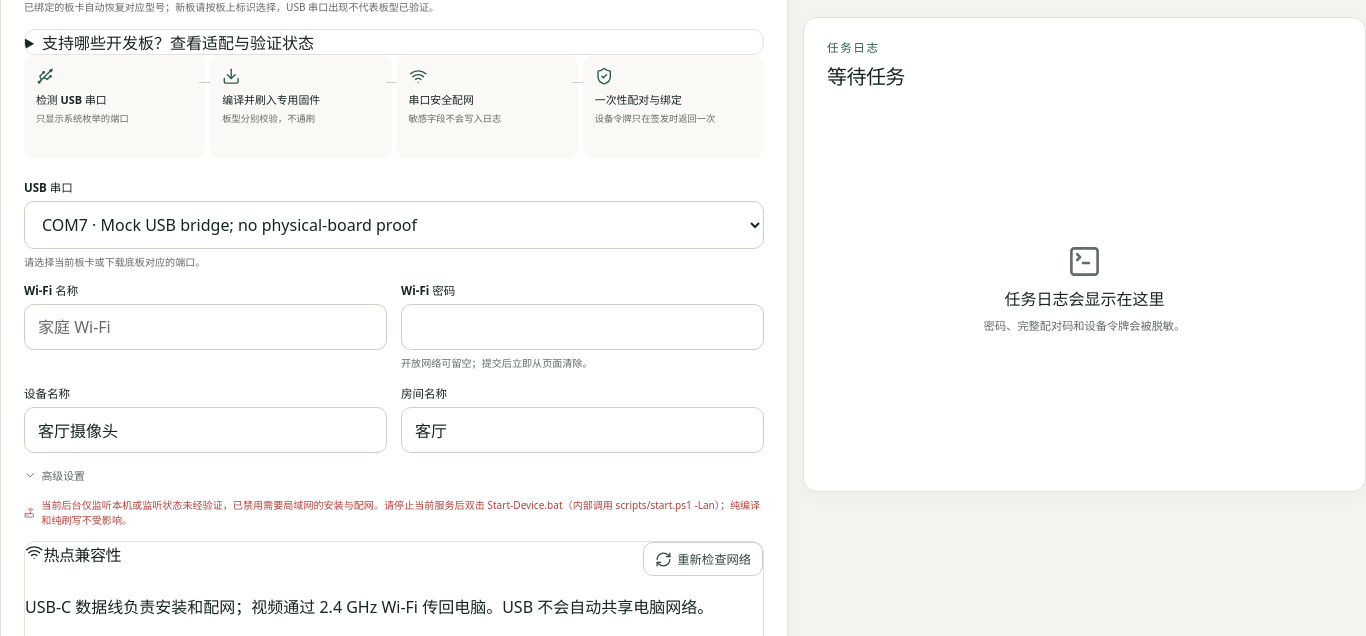
it: Mock component contracts: ESP32 LAN preflight, not hardware acceptance › keeps install and network enrollment disabled when listener is unverified: {"lan_enabled":false,"listener_verified":true,"lan_urls":["http://192.168.1.20:8018"]
(page scrolled)
Expected: the text "scripts/start.ps1 -Lan" is shown, x1=41 y1=498 x2=760 y2=527
In the field with placeholder "家庭 Wi-Fi": (206, 328) x1=24 y1=304 x2=387 y2=350, type "Home"
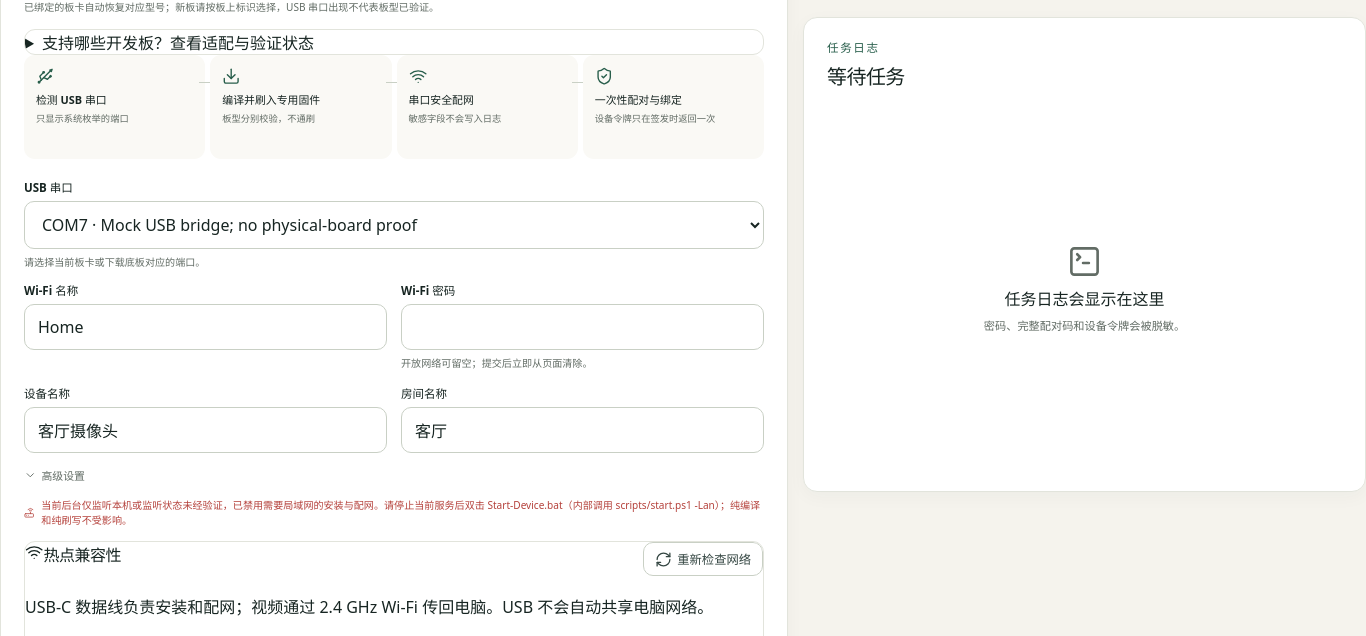
Click the button "高级设置": click(54, 475) x1=24 y1=461 x2=85 y2=489
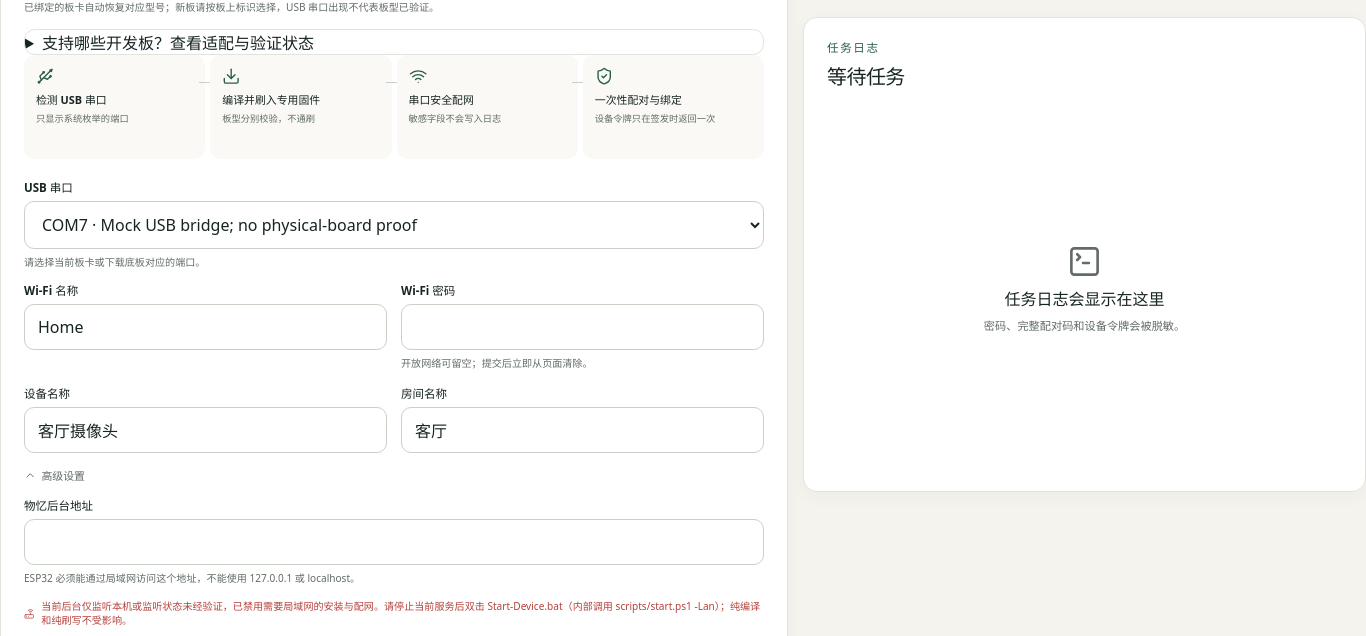
In the field labelled "物忆后台地址 ESP32 必须能通过局域网访问这个地址，不能使用 127.0.0.1 或 localhost。": (394, 542) x1=24 y1=519 x2=764 y2=565, type "http://192.168.1.20:8018"
(page scrolled)
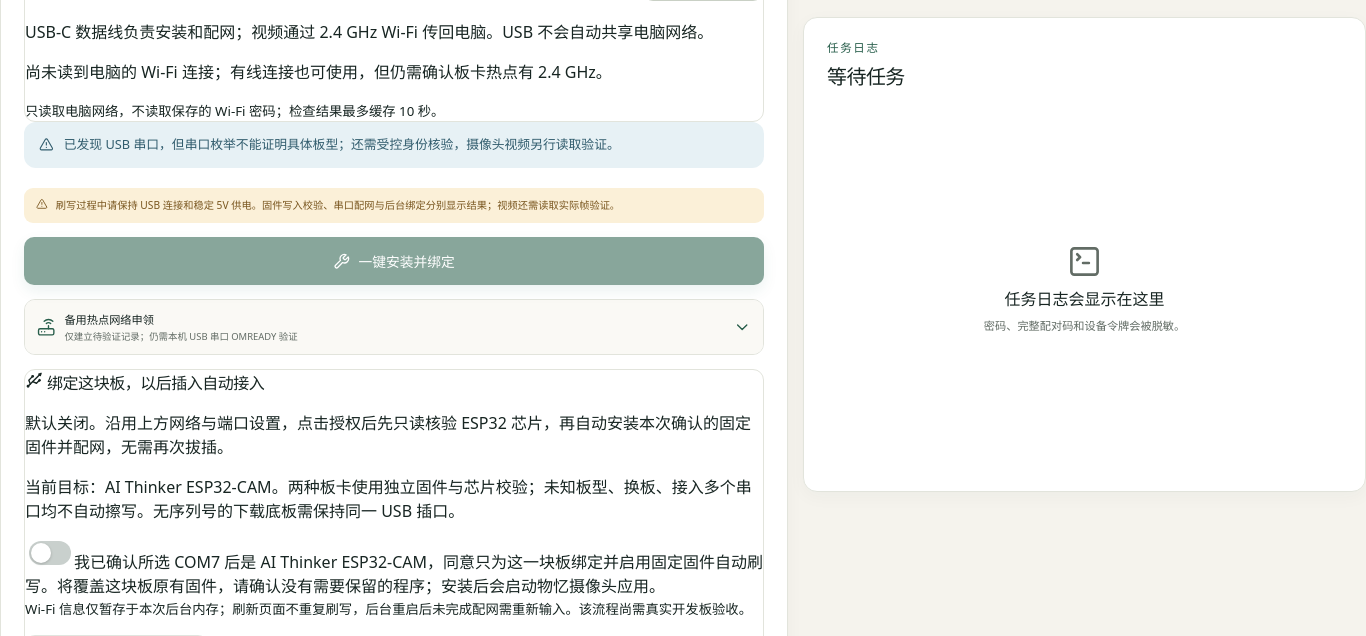
Expected: the button "一键安装并绑定" is disabled, x1=24 y1=237 x2=764 y2=285
Click the button "备用热点网络申领 仅建立待验证记录；仍需本机 USB 串口 OMREADY 验证": click(109, 320) x1=25 y1=300 x2=763 y2=354
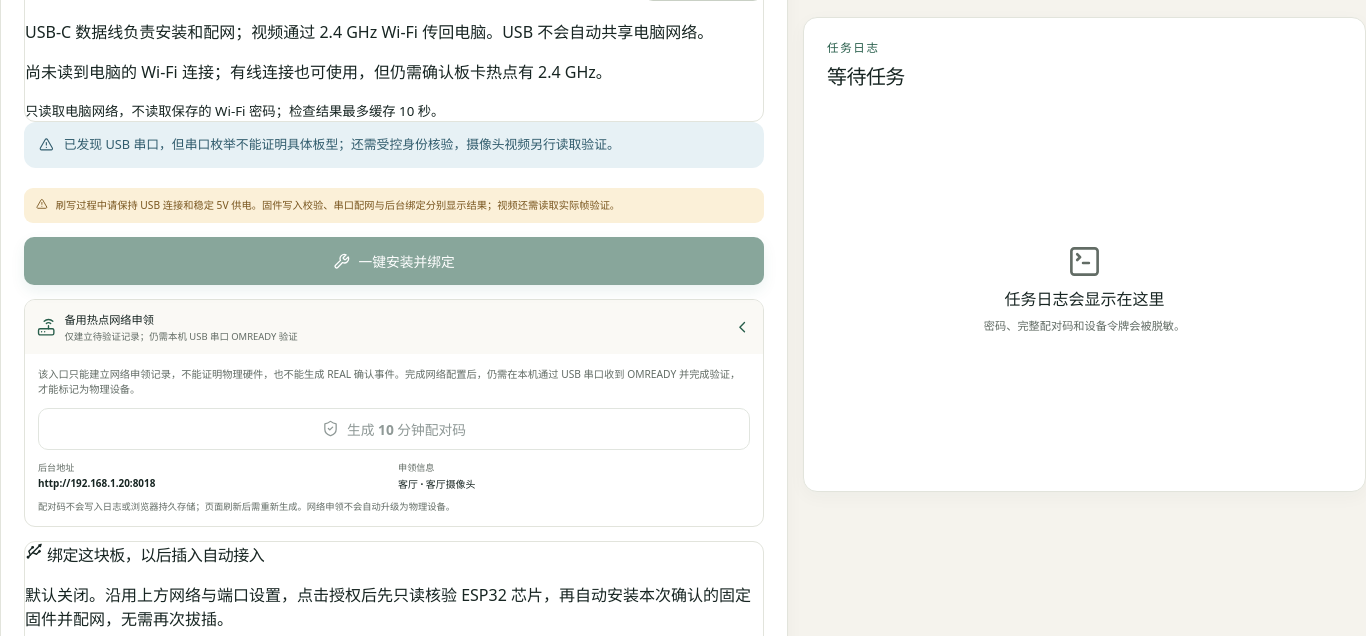
Result: the button "生成 10 分钟配对码" is disabled at x1=38 y1=408 x2=750 y2=450
